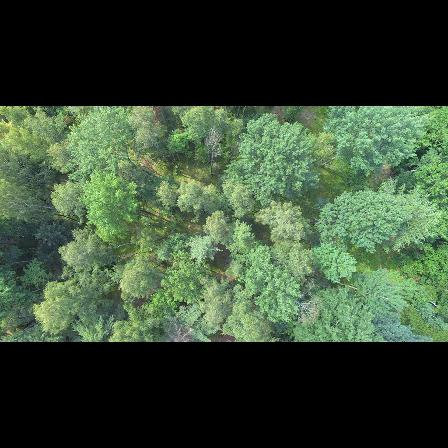Dead: (205, 127, 222, 174)
